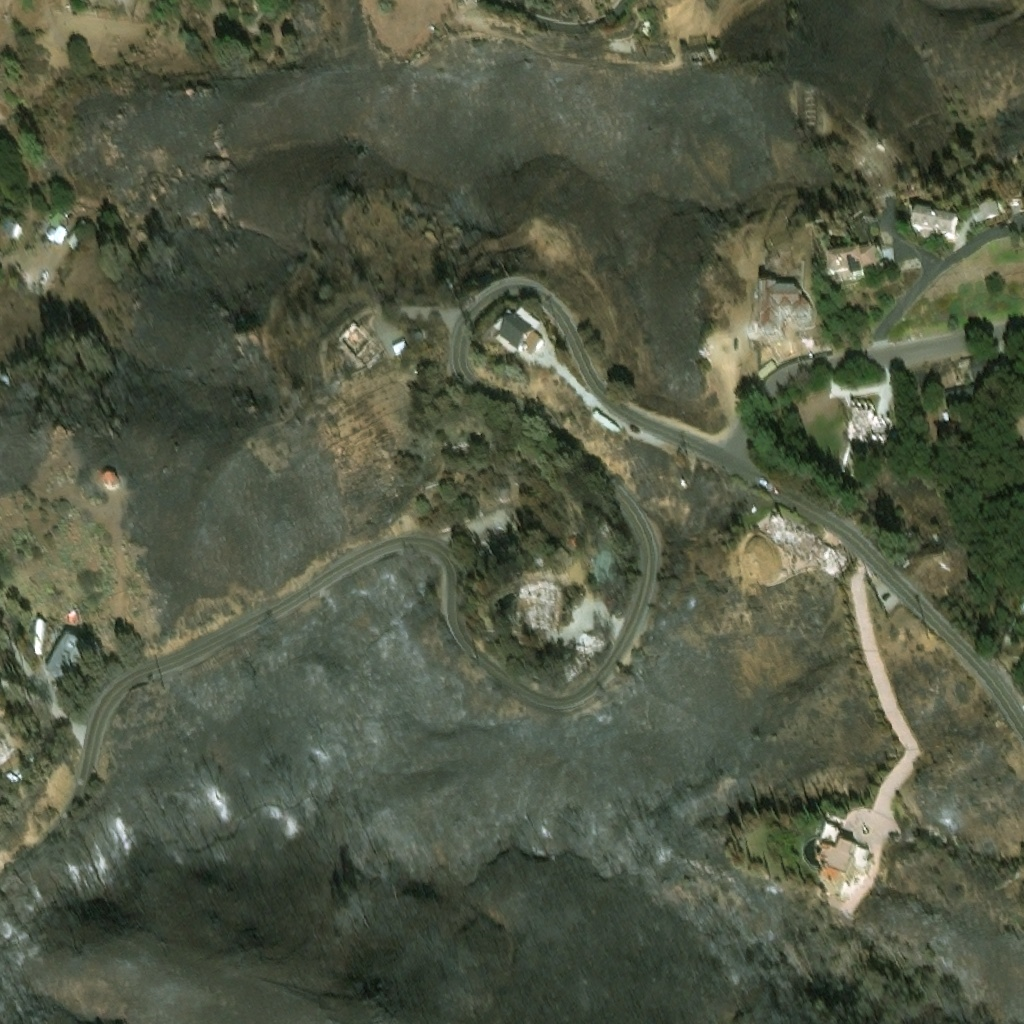0 no-damage: (815, 823, 869, 891), (44, 631, 95, 688), (943, 355, 995, 410), (492, 308, 546, 358), (824, 242, 885, 285), (911, 207, 959, 242), (569, 622, 600, 655), (969, 196, 1001, 223), (593, 412, 620, 435), (39, 638, 59, 668), (64, 211, 84, 240), (7, 763, 30, 787), (33, 617, 44, 650), (2, 218, 22, 236), (100, 468, 118, 485), (912, 820, 934, 833), (50, 218, 65, 235), (450, 437, 471, 449), (44, 220, 54, 235), (65, 604, 75, 617), (0, 370, 9, 381)
2 major-damage: (759, 283, 810, 337), (335, 318, 387, 370)
3 destroyed: (760, 509, 826, 556), (843, 400, 890, 437), (817, 539, 850, 571), (475, 519, 498, 552), (497, 521, 515, 544), (688, 46, 711, 60)
